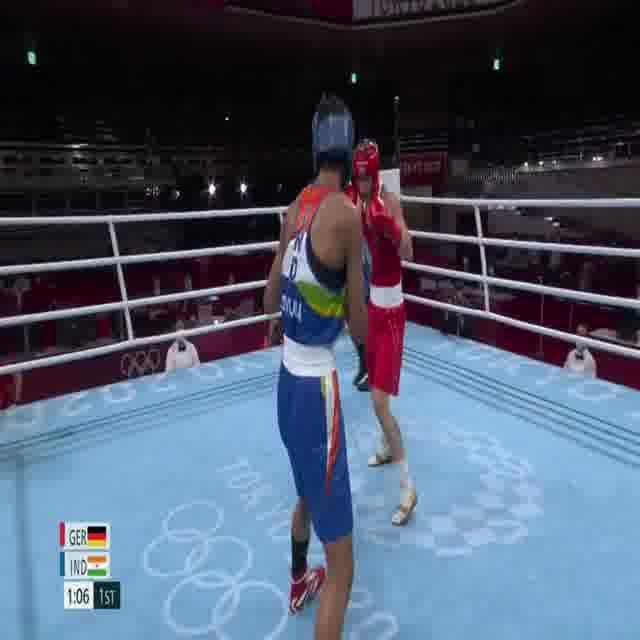blue-player: (255, 90, 373, 640)
red-player: (340, 140, 426, 532)
referee: (352, 138, 384, 393)
